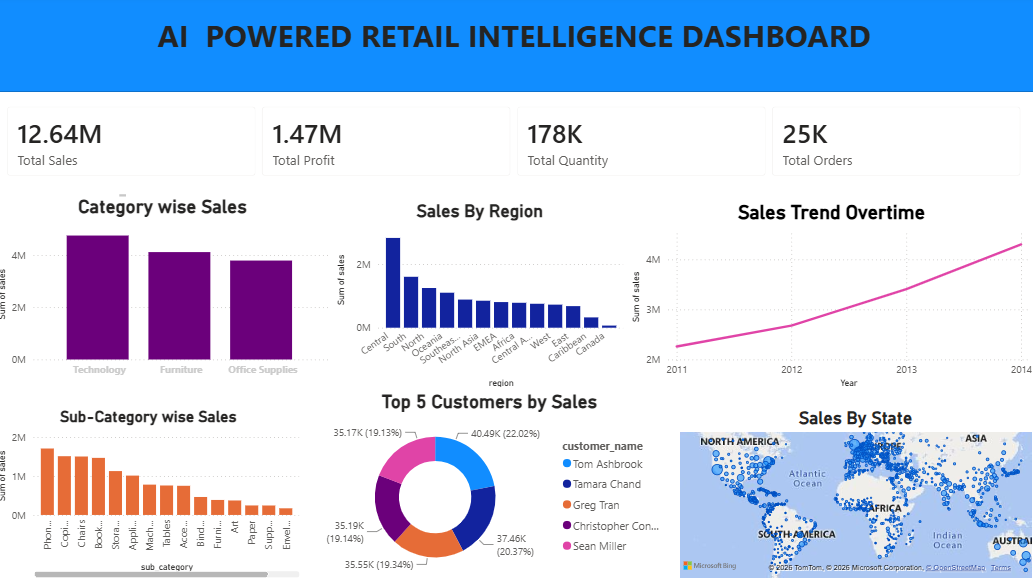

This screenshot's page, from the dashboard's own definition file:
{"tool":"powerbi","page":{"name":"Page 1","canvas":[1280,720],"ordinal":0},"visuals":[{"type":"clusteredColumnChart","title":"Category wise Sales","fields":{"Category":["Sheet1.category"],"Y":["Sum(Sheet1.sales)"]},"box":[0,287.2,416,228.3],"z":0},{"type":"textbox","box":[149.3,240,18.9,13.2],"z":1000},{"type":"shape","box":[0,0,1279.4,119.1],"z":2000},{"type":"textbox","box":[0,34,1279.4,56.7],"z":3000},{"type":"clusteredColumnChart","title":"Sales By Region ","fields":{"Category":["Sheet1.region"],"Y":["Sum(Sheet1.sales)"]},"box":[416,292.7,362.6,213.5],"z":4000},{"type":"lineChart","title":"Sales Trend Overtime ","fields":{"Category":["Sheet1.order_date.Variation.Date Hierarchy.Year","Sheet1.order_date.Variation.Date Hierarchy.Quarter","Sheet1.order_date.Variation.Date Hierarchy.Month","Sheet1.order_date.Variation.Date Hierarchy.Day"],"Y":["Sum(Sheet1.sales)"]},"box":[778.7,292.7,500.7,215.4],"z":5000},{"type":"columnChart","title":"Sub-Category wise Sales","fields":{"Category":["Sheet1.sub_category"],"Y":["Sum(Sheet1.sales)"]},"box":[0,528.3,381.1,191.4],"z":6000},{"type":"donutChart","title":"Top 5 Customers by Sales","fields":{"Category":["Sheet1.customer_name"],"Y":["Sum(Sheet1.sales)"]},"box":[381.1,506.2,456.5,213.5],"z":7000},{"type":"map","title":"Sales By State","fields":{"Category":["Sheet1.state"],"Size":["Sum(Sheet1.sales)"]},"box":[837.6,528.3,441.8,191.4],"z":7001}]}

Visuals, with their boxes in screenshot pixels (x1, y1, x2, y2), scaled from the page's 1280x720 canvas onto the 1033x580 screenshot:
"Category wise Sales" clusteredColumnChart: pyautogui.locateOnScreen(0, 231, 336, 415)
textbox: pyautogui.locateOnScreen(120, 193, 136, 204)
shape: pyautogui.locateOnScreen(0, 0, 1032, 96)
textbox: pyautogui.locateOnScreen(0, 27, 1032, 73)
"Sales By Region " clusteredColumnChart: pyautogui.locateOnScreen(336, 236, 628, 408)
"Sales Trend Overtime " lineChart: pyautogui.locateOnScreen(628, 236, 1032, 409)
"Sub-Category wise Sales" columnChart: pyautogui.locateOnScreen(0, 426, 308, 579)
"Top 5 Customers by Sales" donutChart: pyautogui.locateOnScreen(308, 408, 676, 579)
"Sales By State" map: pyautogui.locateOnScreen(676, 426, 1032, 579)
